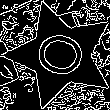O_E: (28, 26, 93, 84)
